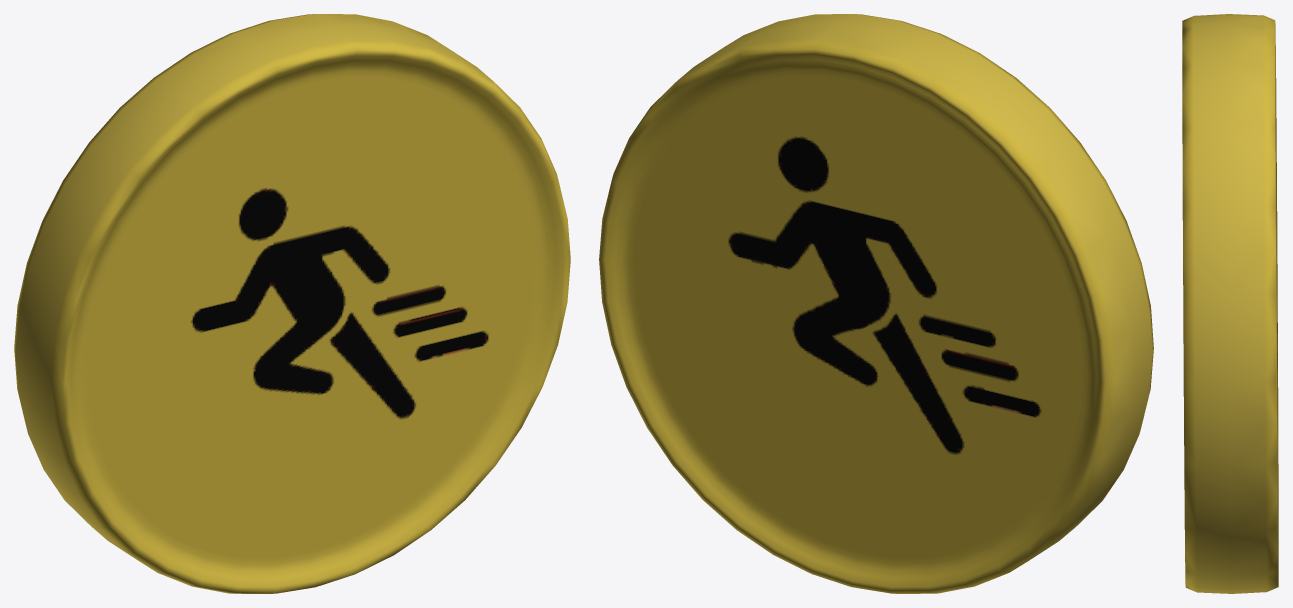
File: speedBoost.obj
3 views of the same model, side by side, from view 1: azimuth 30°, elevation 25°; view 2: azimuth 150°, elevation 25°; view 3: azimuth 270°, elevation 25° (orthographic). The views are drawn at different scales.
Parts seen in each view (by area): view 1: mayacoin; view 2: mayacoin; view 3: mayacoin.
Part boxes in pixels (x1,y1,x2,y2): mayacoin: (14, 14, 570, 593); mayacoin: (599, 14, 1153, 593); mayacoin: (1182, 14, 1278, 593).
Size of the model in its own units: 1.98 by 1.98 by 0.3284.
